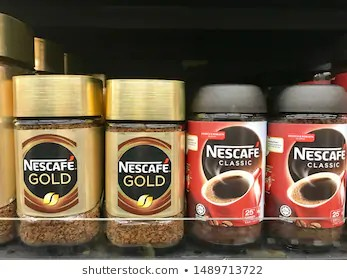nescafe-classic/gold-med: (13, 74, 104, 247), (102, 77, 187, 246), (268, 84, 347, 244), (188, 84, 266, 245)
